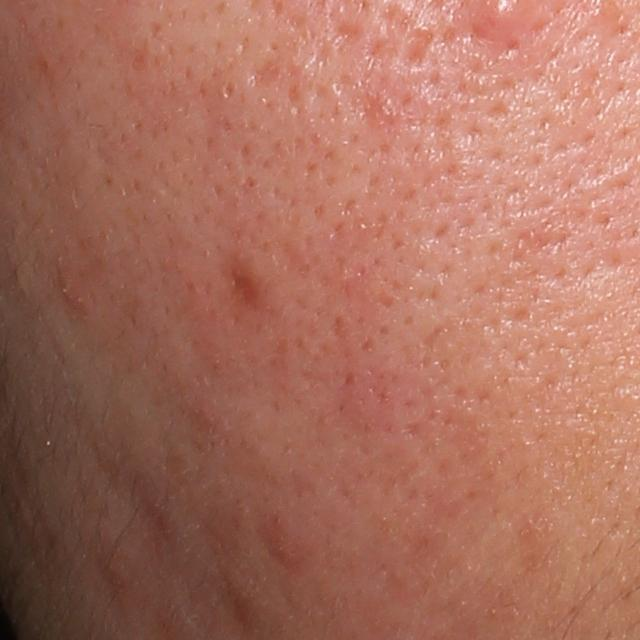atrophic_scar: (217, 257, 264, 313), (392, 26, 437, 77), (244, 57, 286, 91), (329, 20, 366, 46)
papule: (262, 519, 316, 567), (53, 268, 89, 313)
